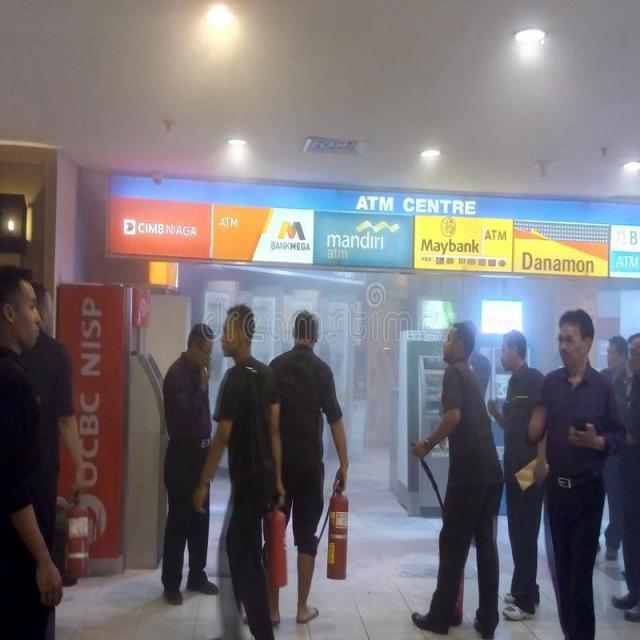fire_extinguisher: (307, 466, 353, 587), (58, 477, 94, 584)
